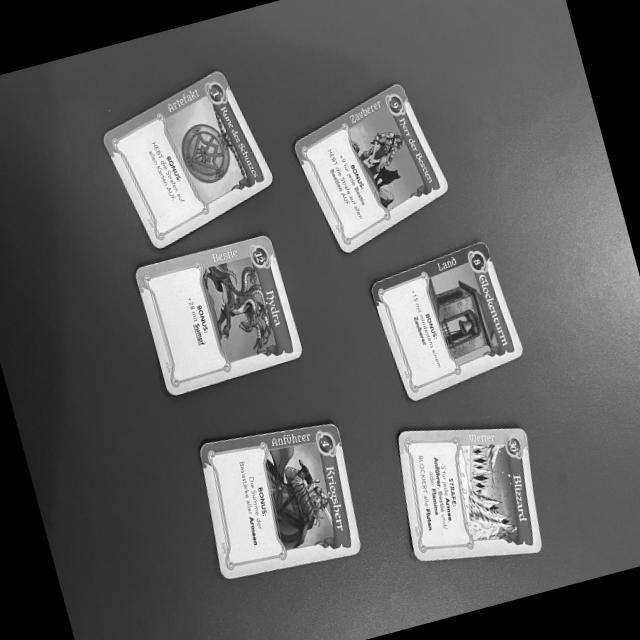Beast Master: (292, 72, 451, 257)
Blizzard: (397, 430, 540, 564)
Clock Tower: (367, 240, 524, 405)
Hydra: (133, 232, 304, 396)
Rune Of Protection: (99, 65, 275, 254)
Warlord: (199, 416, 361, 581)
